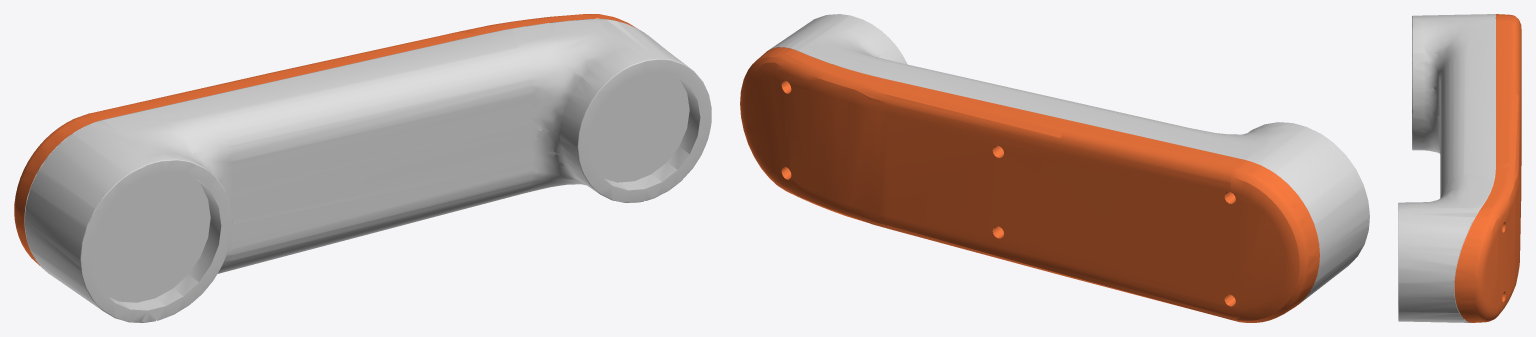
3 renders of one model, left to right at view 1: azimuth 30°, elevation 25°; view 2: azimuth 150°, elevation 25°; view 3: azimuth 270°, elevation 25°, orthographic. The views are drawn at different scales.
Visible parts, largest first — view 1: null; view 2: null; view 3: null.
Boxes of the visible parts, left/top/right/bottom form: null: left=14, top=14, right=711, bottom=322; null: left=740, top=14, right=1369, bottom=322; null: left=1398, top=14, right=1521, bottom=322.
Size of the model in its own units: 0.3393 by 0.0845 by 0.0757.
